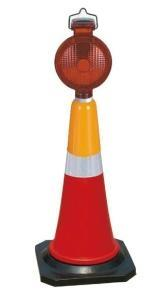cone_barrel: (45, 61, 121, 268)
